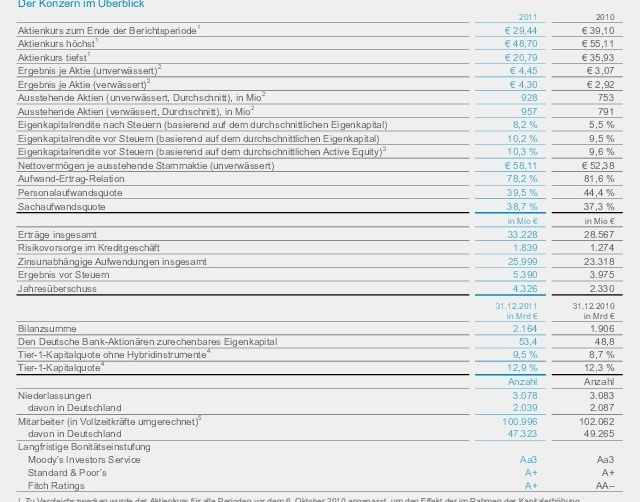table: (0, 0, 640, 502)
